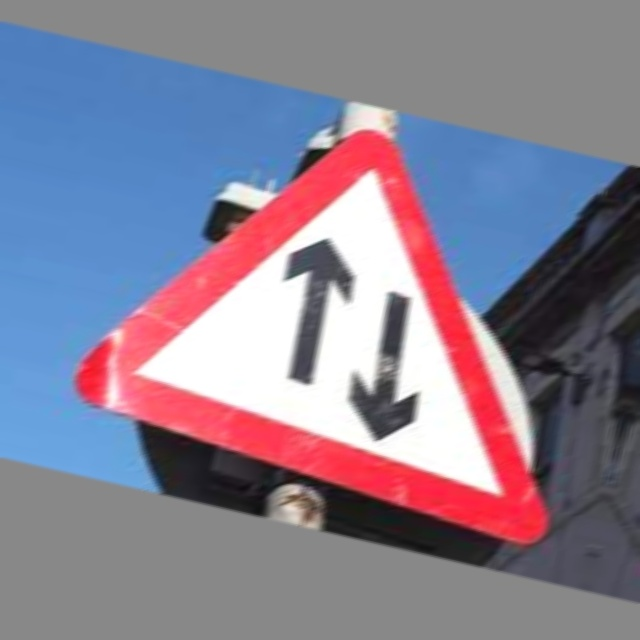Mandatory_Two_Way_Traffic: (94, 92, 611, 536)
